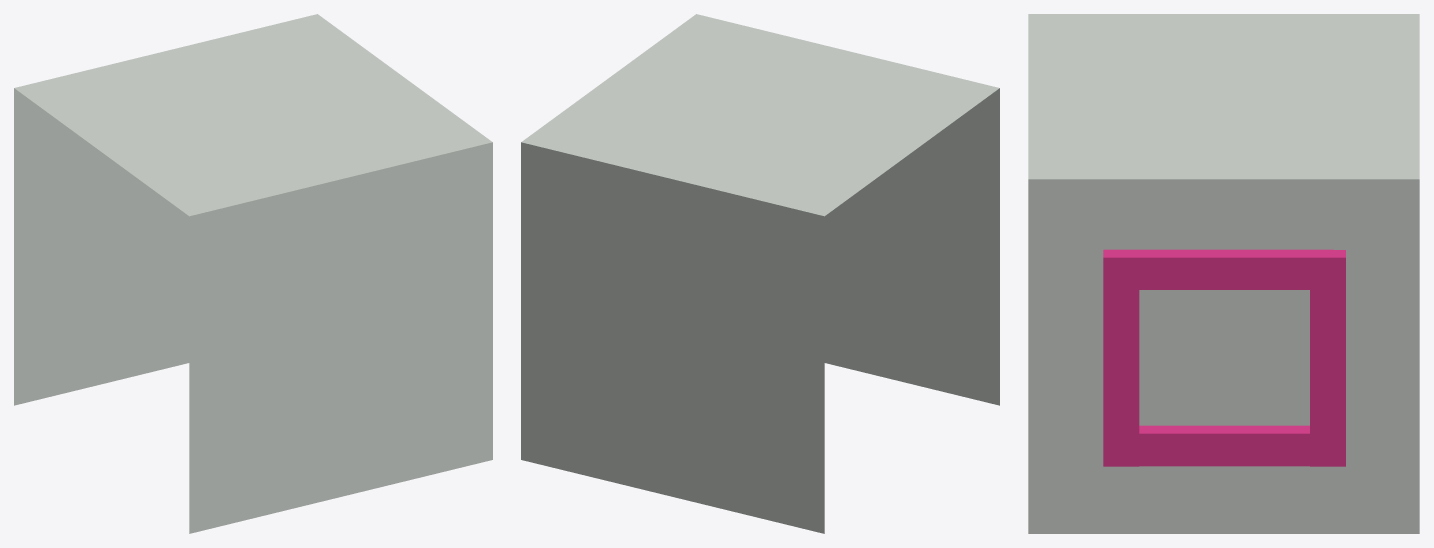
File: tile_quadrado.fbx
3 views of the same model, side by side, from view 1: azimuth 30°, elevation 25°; view 2: azimuth 150°, elevation 25°; view 3: azimuth 270°, elevation 25° (orthographic). The views are drawn at different scales.
Parts seen in each view (by area): view 1: Cubo.001; view 2: Cubo.001; view 3: Cubo.001, Cubo.003.
Part boxes in pixels (<box>): Cubo.001: <box>14,14,492,533</box>; Cubo.001: <box>521,14,999,533</box>; Cubo.001: <box>1028,14,1419,533</box>; Cubo.003: <box>1103,249,1345,466</box>.
Bounding box in the file's own units: 210 × 200 × 200.
